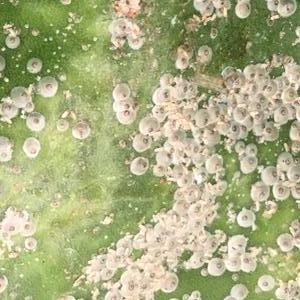Femea: (240, 48, 299, 101), (148, 70, 202, 118), (122, 260, 179, 299), (151, 135, 195, 184), (208, 92, 253, 138), (80, 238, 128, 280), (262, 150, 299, 203), (165, 188, 218, 225), (222, 229, 263, 272), (253, 103, 299, 140), (129, 212, 171, 250), (186, 235, 222, 274), (132, 116, 158, 153), (111, 88, 134, 124), (233, 140, 257, 172)
